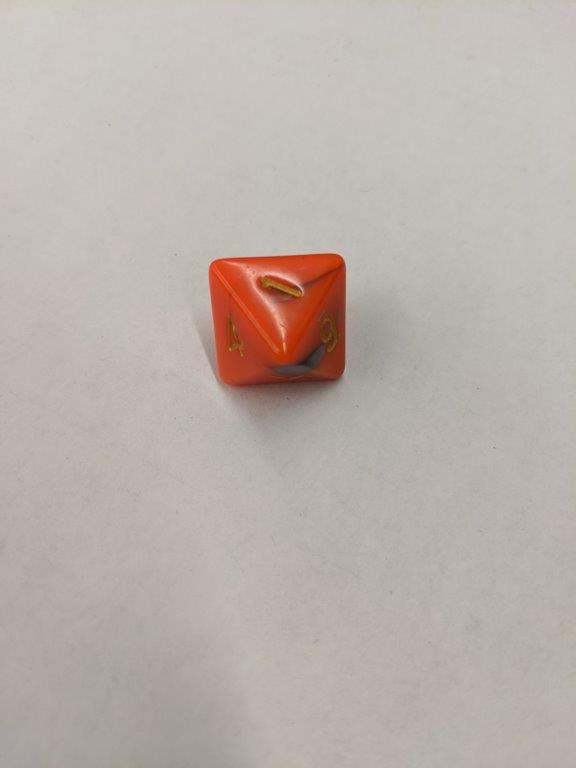d8-1: (205, 251, 348, 387)
